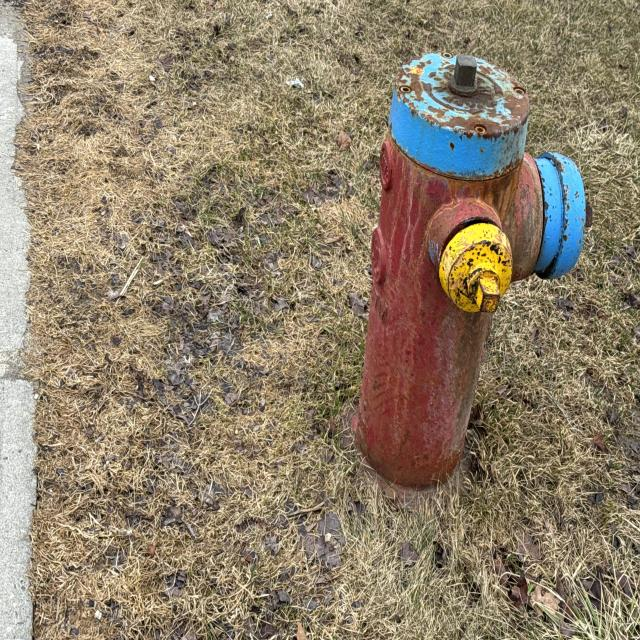Fire hydrant: (333, 49, 595, 516)
